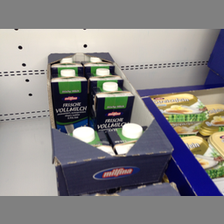milk: (50, 68, 91, 126), (94, 81, 136, 131)
